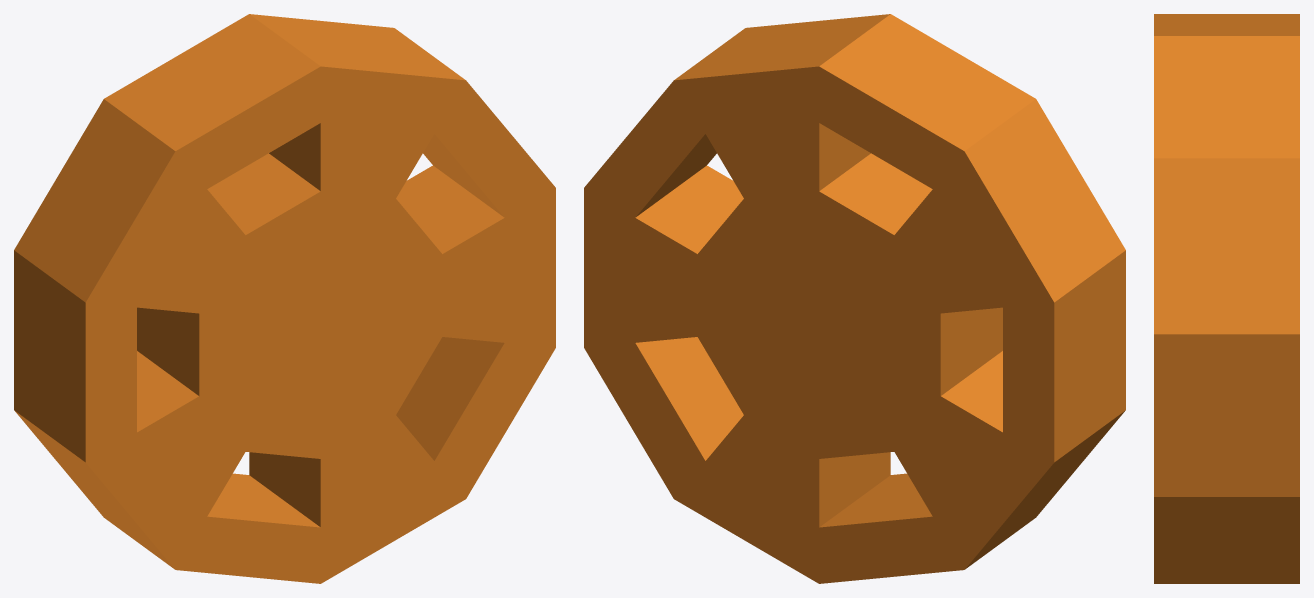
Rendered from Cart Wheel.fbx.
The picture shows the model from 3 angles, left to right: view 1: azimuth 30°, elevation 25°; view 2: azimuth 150°, elevation 25°; view 3: azimuth 270°, elevation 25°; orthographic projection.
Visible parts, largest first — view 1: Cart Wheel; view 2: Cart Wheel; view 3: Cart Wheel.
Boxes of the visible parts, box(x1,y1,x2,y2) form: Cart Wheel: box(14, 14, 555, 583); Cart Wheel: box(584, 14, 1125, 583); Cart Wheel: box(1154, 14, 1299, 583).
Size of the model in its own units: 190 by 200 by 50.19.
